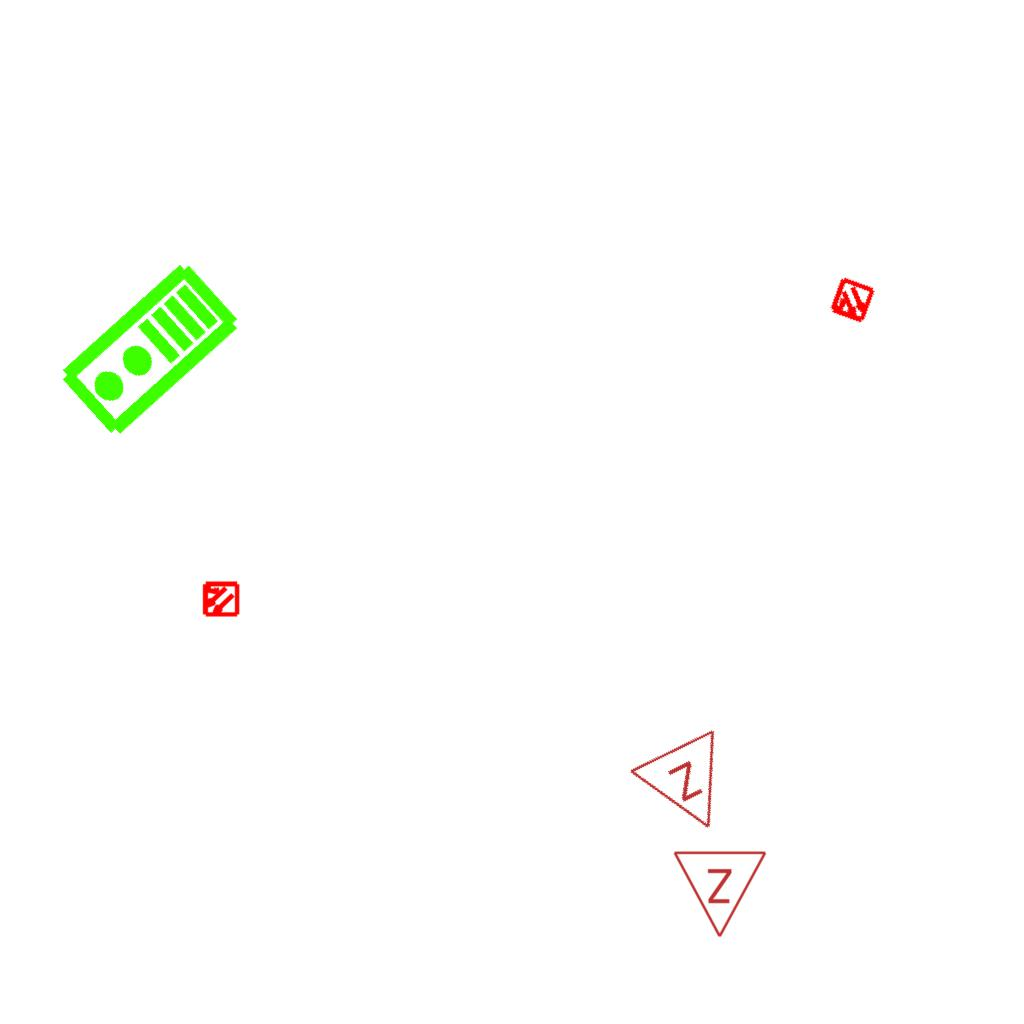Gegensprechanlage_mit_Video: (53, 256, 248, 446)
OT_Multisensormelder_(Kombination_RMO_WMD): (816, 265, 888, 337), (192, 571, 248, 627)
Zimmersignalleuchte: (625, 721, 757, 855), (672, 844, 770, 944)
